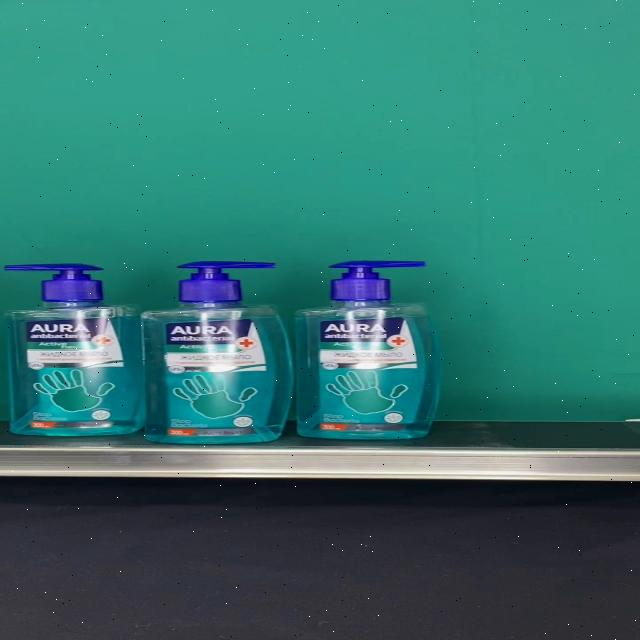Bottle: (140, 261, 294, 445), (293, 260, 441, 439), (5, 262, 144, 436)
Cap: (328, 260, 428, 302), (178, 261, 276, 303), (4, 263, 103, 301)
